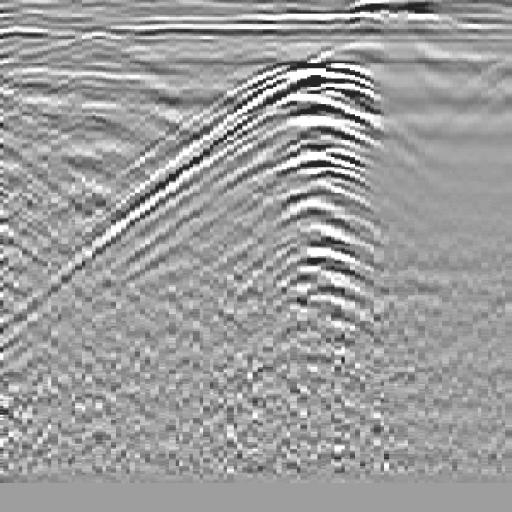metalic: (46, 32, 500, 393)
